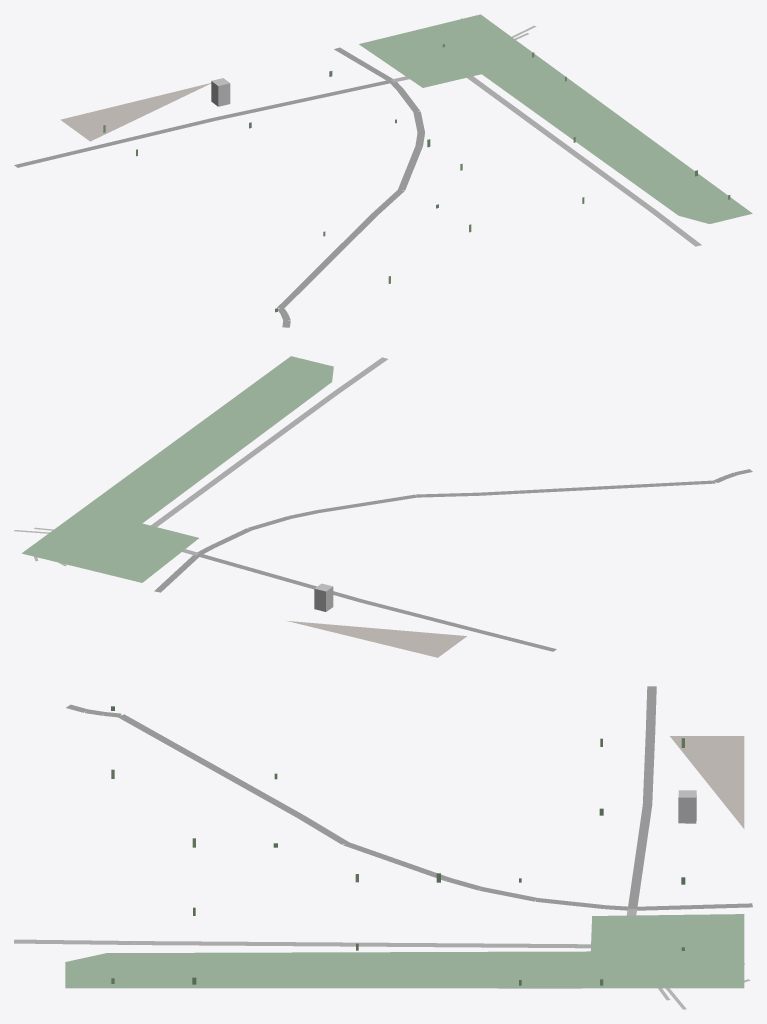
3 views of the same model, one above another, from view 1: azimuth 30°, elevation 25°; view 2: azimuth 150°, elevation 25°; view 3: azimuth 270°, elevation 25° (orthographic). The views are drawn at different scales.
Bounding box in the file's own units: 565 × 21 × 544.
